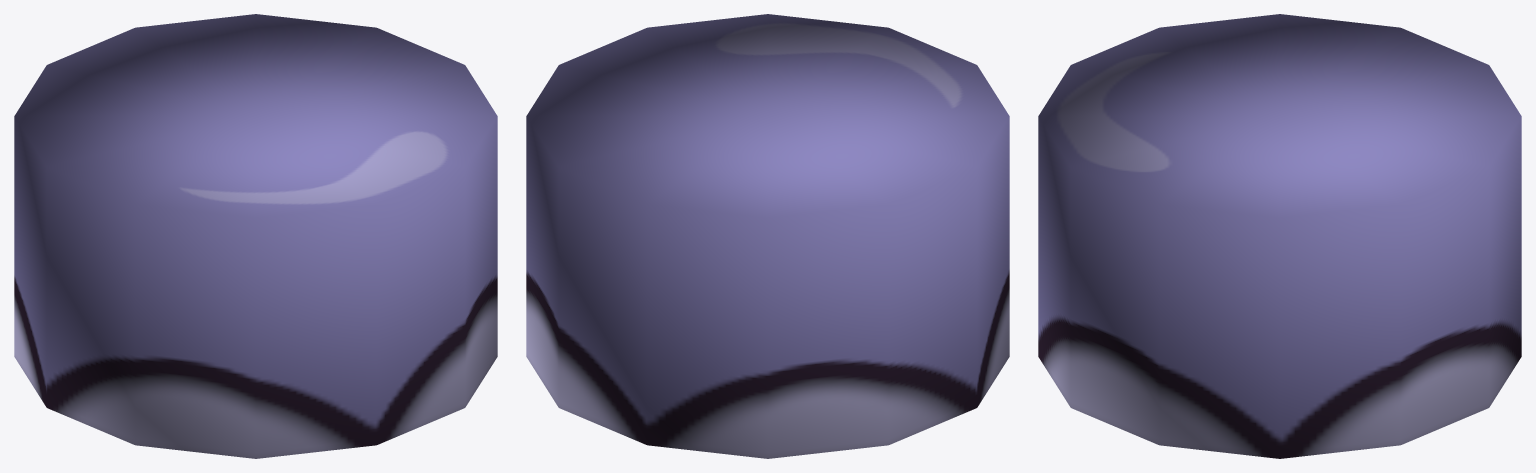
The model's file is table-fancy.fbx.
3 views of the same model, side by side, from view 1: azimuth 30°, elevation 25°; view 2: azimuth 150°, elevation 25°; view 3: azimuth 270°, elevation 25° (orthographic).
Visible parts, largest first — view 1: pCylinder1; view 2: pCylinder1; view 3: pCylinder1.
Boxes of the visible parts, left/top/right/bottom form: pCylinder1: left=14, top=14, right=497, bottom=458; pCylinder1: left=526, top=14, right=1009, bottom=458; pCylinder1: left=1038, top=14, right=1521, bottom=458.
Bounding box in the file's own units: 2 × 1.1 × 2.
1 material, 1 textured.
